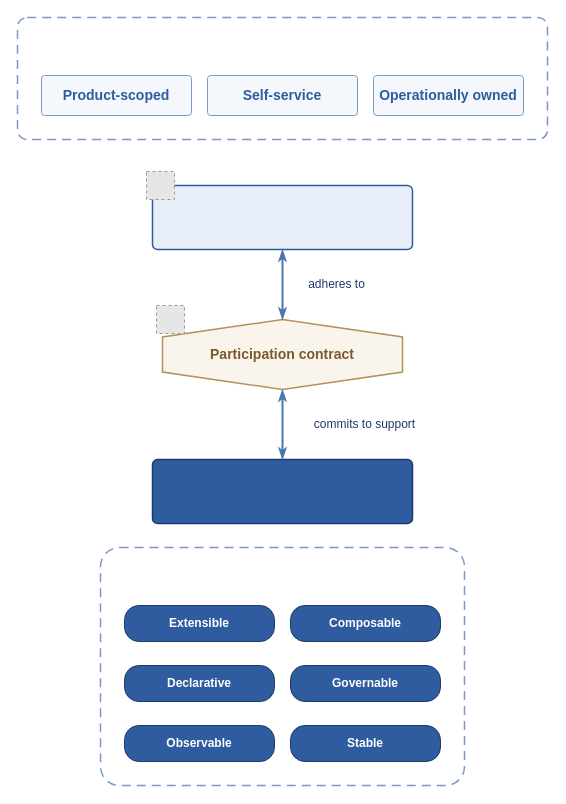
Image size: 566x804. Some labels were removed from this diagram. Grey dashed boxes stand in for pictures. The box of each missing label's shape, as (x1, y1, x2, y2) in pixels:
Capability needs a platform to host it: (151, 184, 413, 250)
Capability principles: (16, 16, 548, 140)
Platform needs capabilities it can sustain: (151, 458, 413, 524)
Platform principles: (99, 546, 465, 786)
